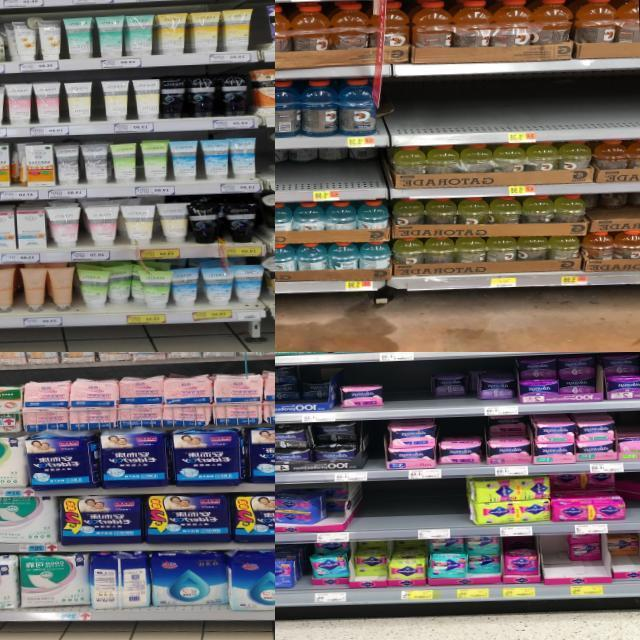empty: (389, 69, 640, 147), (366, 478, 464, 540), (382, 360, 431, 418)
